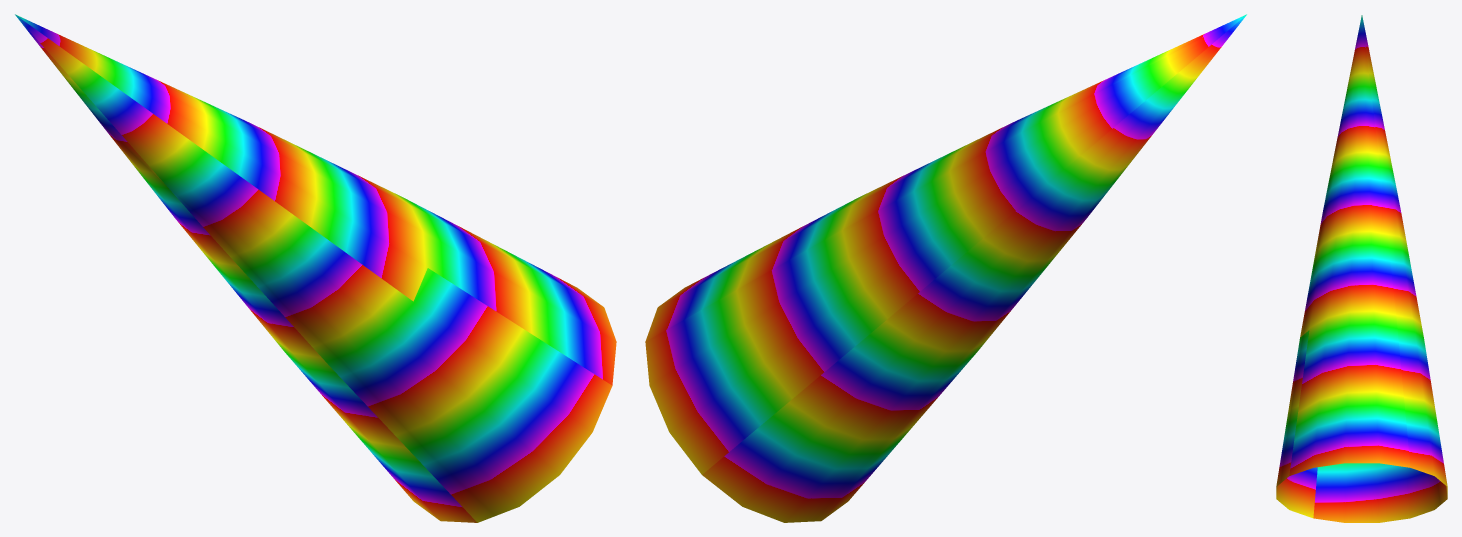
The model's file is conor.fbx.
3 views of the same model, side by side, from view 1: azimuth 30°, elevation 25°; view 2: azimuth 150°, elevation 25°; view 3: azimuth 270°, elevation 25° (orthographic). The views are drawn at different scales.
Visible parts, largest first — view 1: unicornio; view 2: unicornio; view 3: unicornio.
Part boxes in pixels (bbox=[...]): unicornio: bbox=[15, 14, 616, 522]; unicornio: bbox=[645, 14, 1246, 522]; unicornio: bbox=[1276, 15, 1447, 522].
Bounding box in the file's own units: 36.06 × 35.74 × 14.59.
Materials: 1 (1 with a texture image).
